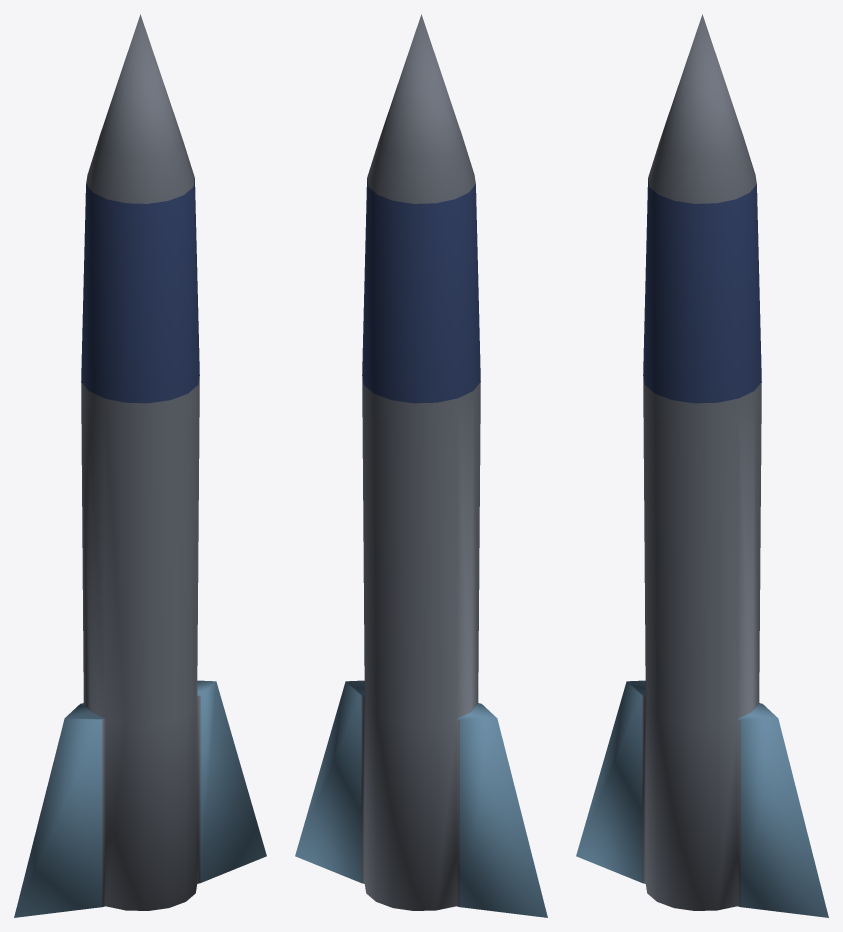
Rendered from missle.fbx.
The picture shows the model from 3 angles, left to right: view 1: azimuth 30°, elevation 25°; view 2: azimuth 150°, elevation 25°; view 3: azimuth 330°, elevation 25°; orthographic projection.
Parts seen in each view (by area): view 1: missle; view 2: missle; view 3: missle.
Boxes of the visible parts, x1=… form: missle: x1=14, y1=14, x2=266, y2=917; missle: x1=295, y1=14, x2=547, y2=917; missle: x1=576, y1=14, x2=828, y2=917.
Size of the model in its own units: 0.2652 by 0.8747 by 0.1087.
